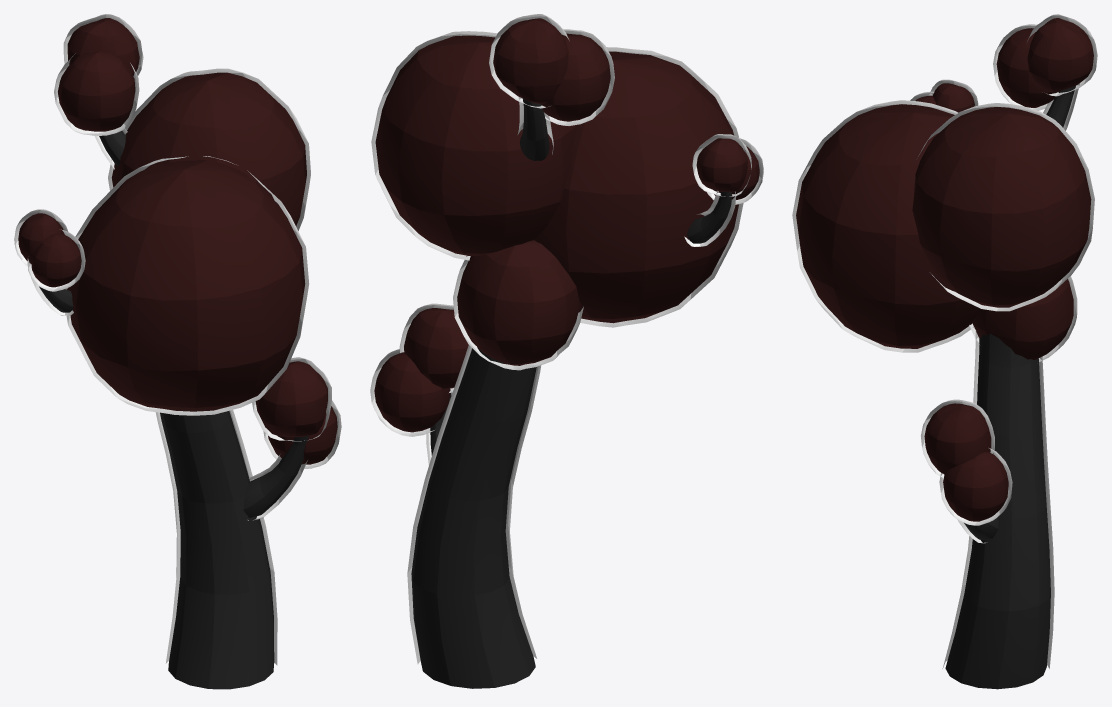
The model's file is Tree1.glb.
3 renders of one model, left to right at view 1: azimuth 30°, elevation 25°; view 2: azimuth 150°, elevation 25°; view 3: azimuth 270°, elevation 25°, orthographic. The views are drawn at different scales.
Parts seen in each view (by area): view 1: Tree1_LOD0; view 2: Tree1_LOD0; view 3: Tree1_LOD0.
Part boxes in pixels (bbox=[...]): Tree1_LOD0: bbox=[14, 14, 341, 689]; Tree1_LOD0: bbox=[370, 14, 763, 688]; Tree1_LOD0: bbox=[792, 14, 1097, 689].
Size of what is drawn, in the model's own units: 9.27 by 17.32 by 7.82.
2 materials, 1 textured.
